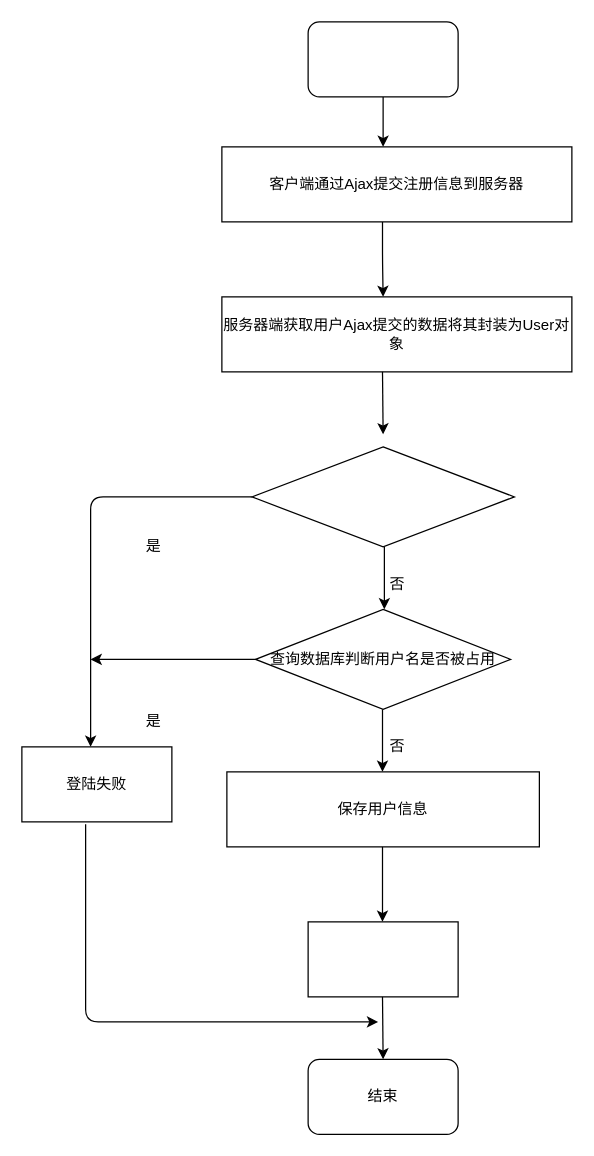
The diagram is 594 pixels wide and 1156 high, and some of its shapes have lost their labels. The centre of each missing label's shape, as x and y in pixels:
开始: (x=382, y=59)
登陆成功: (x=382, y=959)
首先判断提交的数据是否为空: (x=382, y=496)
